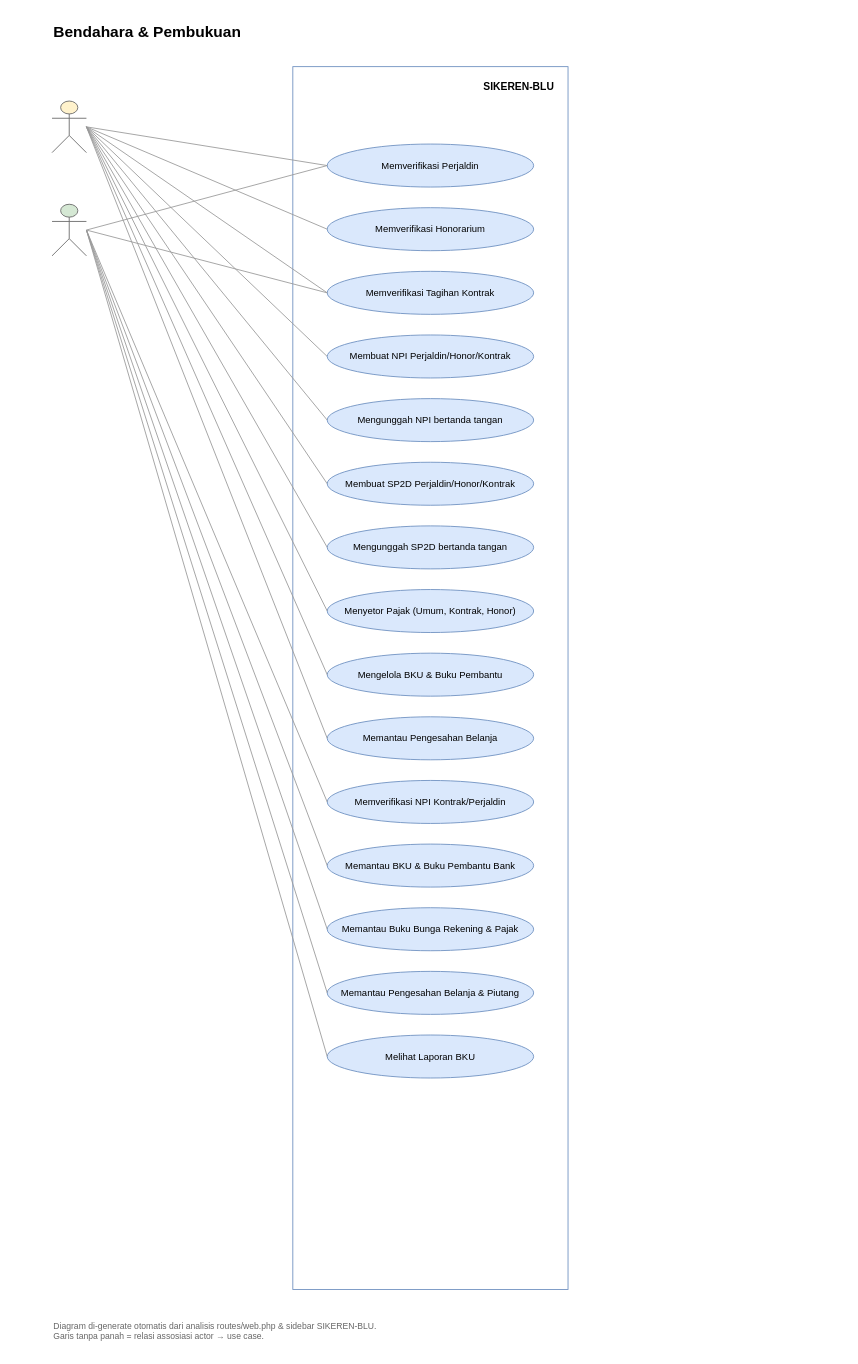
Some shapes in this 858 by 1364 pixel diagram are drawn without their labels. The shapes that lost their labels are listed below. From the top down, each one's centre as x and y in pixels, then its label:
At (x=68, y=126): "Bendahara Pengeluaran".
At (x=68, y=229): "Bendahara Penerimaan".
